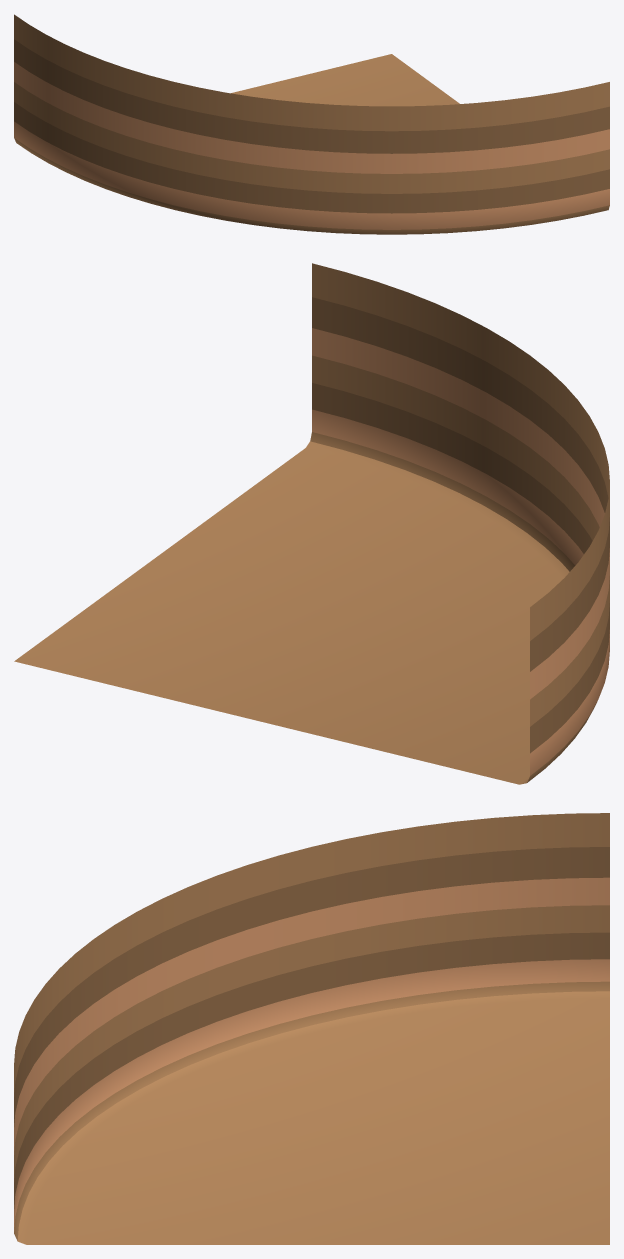
Rendered from platform_grass_corner_round3_bottom_tall.gltf.
3 renders of one model, top to bottom at view 1: azimuth 30°, elevation 25°; view 2: azimuth 150°, elevation 25°; view 3: azimuth 270°, elevation 25°, orthographic. The views are drawn at different scales.
Parts seen in each view (by area): view 1: Cube_Grass_Corner_Round3Bottom_Tall; view 2: Cube_Grass_Corner_Round3Bottom_Tall; view 3: Cube_Grass_Corner_Round3Bottom_Tall.
Part boxes in pixels (bbox=[...]): Cube_Grass_Corner_Round3Bottom_Tall: bbox=[14, 14, 609, 234]; Cube_Grass_Corner_Round3Bottom_Tall: bbox=[14, 263, 609, 784]; Cube_Grass_Corner_Round3Bottom_Tall: bbox=[14, 813, 609, 1244].
Size of the model in its own units: 6 by 2 by 6.
